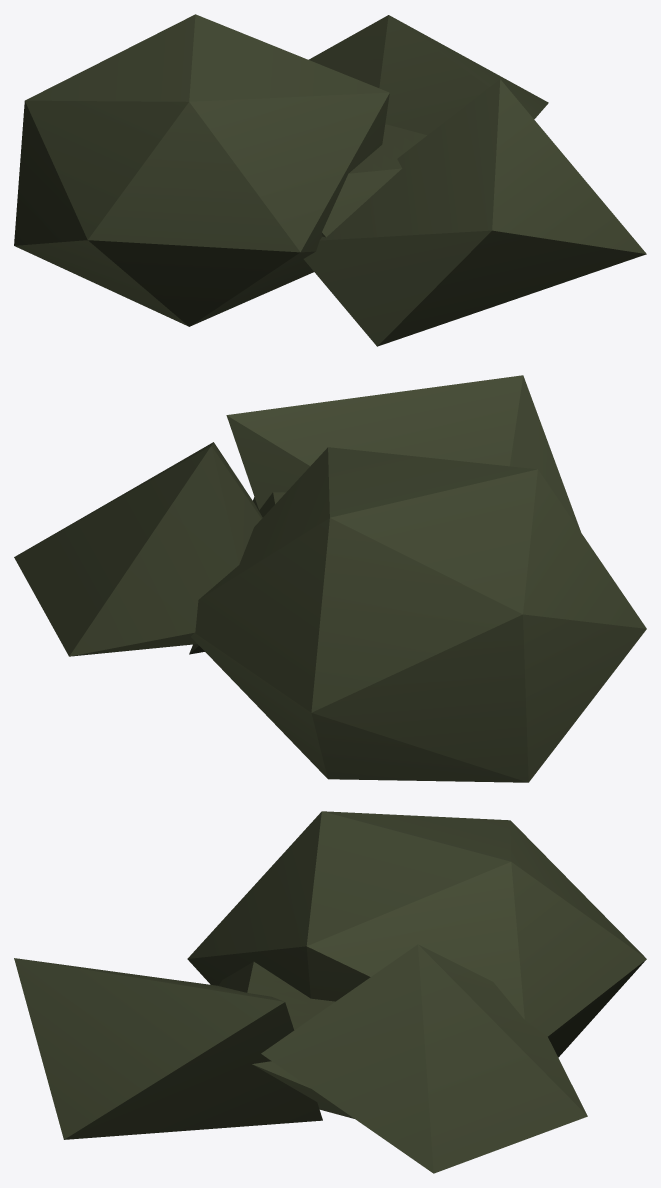
File: shrub_a_LOD1.glb
3 views of the same model, one above another, from view 1: azimuth 30°, elevation 25°; view 2: azimuth 150°, elevation 25°; view 3: azimuth 270°, elevation 25° (orthographic). The views are drawn at different scales.
Parts seen in each view (by area): view 1: Body_LOD1; view 2: Body_LOD1; view 3: Body_LOD1.
Part boxes in pixels (x1,y1,x2,y2): Body_LOD1: (14, 14, 646, 346); Body_LOD1: (14, 375, 646, 782); Body_LOD1: (14, 811, 646, 1173).
Size of the model in its own units: 2.31 by 1 by 2.33.
